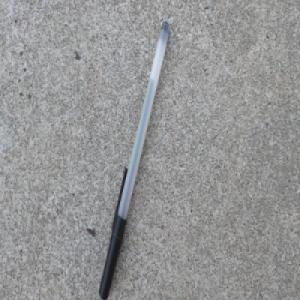Pen: (98, 19, 171, 300)
